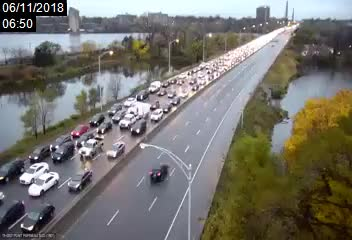congestion: (1, 144, 99, 236), (47, 113, 141, 161), (110, 94, 169, 122), (142, 78, 198, 98), (178, 67, 217, 84), (206, 57, 235, 70)
personal_car: (22, 204, 55, 233), (68, 167, 95, 195), (28, 174, 62, 195), (20, 162, 52, 183), (1, 201, 23, 228), (79, 138, 103, 162), (1, 157, 23, 182), (29, 144, 54, 163), (147, 162, 173, 180), (106, 138, 124, 161), (52, 144, 76, 161), (95, 120, 113, 137), (71, 123, 88, 140), (132, 120, 146, 136), (89, 114, 106, 127), (110, 107, 125, 121), (152, 106, 162, 122), (136, 90, 149, 102), (150, 81, 160, 92), (162, 101, 171, 113), (166, 89, 176, 99), (157, 87, 167, 97)
truck: (120, 104, 150, 127)
